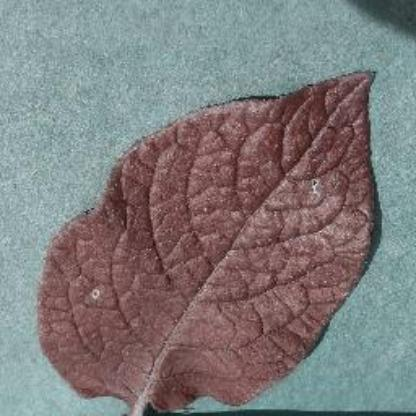Healthy-plant: (34, 66, 386, 414)
